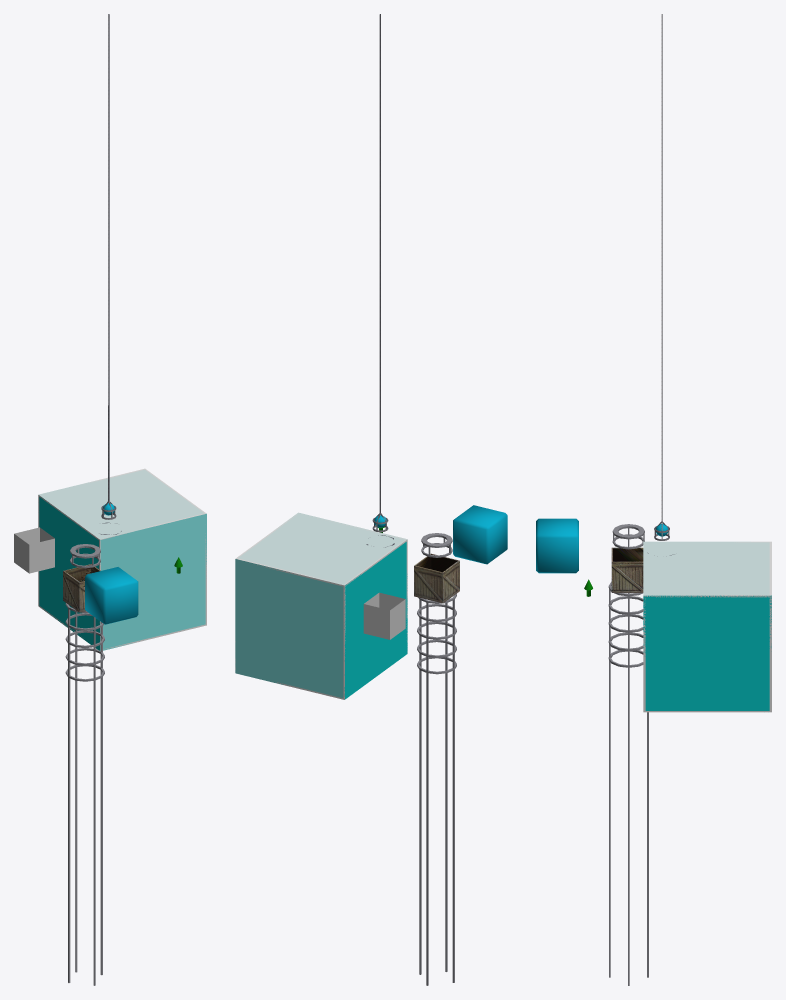
File: AllObjects.fbx
3 views of the same model, side by side, from view 1: azimuth 30°, elevation 25°; view 2: azimuth 150°, elevation 25°; view 3: azimuth 270°, elevation 25° (orthographic). The views are drawn at different scales.
Visible parts, largest first — view 1: BoxOutline, Cup, BoxChrome, Proxy_Cup, BallSucker; view 2: BoxOutline, Cup, BoxChrome, Proxy_Cup, BallSucker; view 3: BoxOutline, Cup, BoxChrome, BallSucker.
Boxes of the visible parts, box(x1,y1,x2,y2) form: BoxOutline: box(38, 468, 206, 650); Cup: box(63, 544, 104, 985); BoxChrome: box(85, 567, 138, 624); Proxy_Cup: box(14, 527, 54, 573); BallSucker: box(101, 14, 116, 519); BoxOutline: box(235, 512, 407, 699); Cup: box(414, 533, 459, 985); BoxChrome: box(453, 505, 507, 564); Proxy_Cup: box(363, 592, 405, 639); BallSucker: box(372, 14, 388, 532); BoxOutline: box(643, 541, 771, 712); Cup: box(608, 524, 648, 985); BoxChrome: box(536, 518, 578, 573); BallSucker: box(654, 14, 669, 540).
Bounding box in the file's own units: 69.29 × 405 × 88.09.
21 materials, 6 textured.
